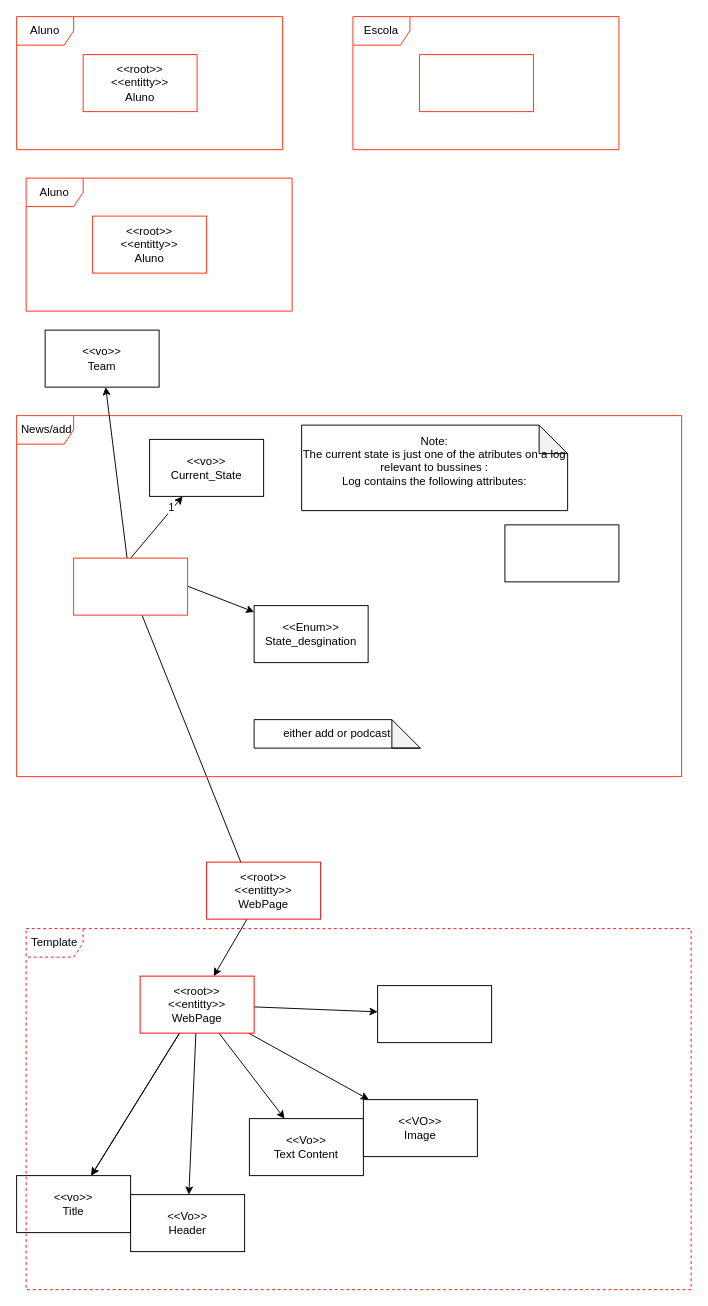
This 708x1306 diagram has some shape labels left out. Here are the shapes that lost their labels. From the top down, the centre of each, then its label:
At (475,83): "<<root>> <<entitty>> Escola".
At (561,553): "<<Entity>> Validator".
At (130,586): "<<root>> <<entitty>> News/add".
At (434,1014): "<<Vo>> Video".
